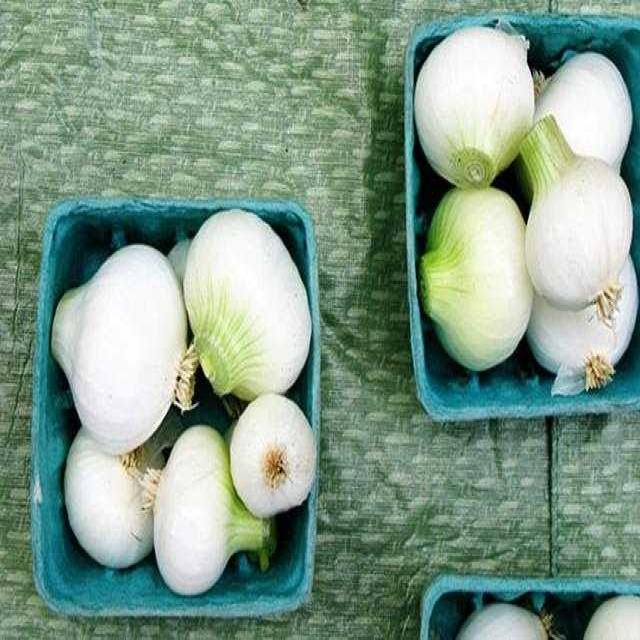onion: (47, 243, 191, 457), (178, 206, 312, 406), (520, 114, 634, 310), (153, 424, 277, 598), (418, 186, 532, 371), (414, 26, 535, 192), (523, 254, 639, 375), (64, 422, 154, 570), (536, 51, 634, 173), (230, 392, 318, 518), (455, 601, 550, 640), (583, 593, 640, 640)
